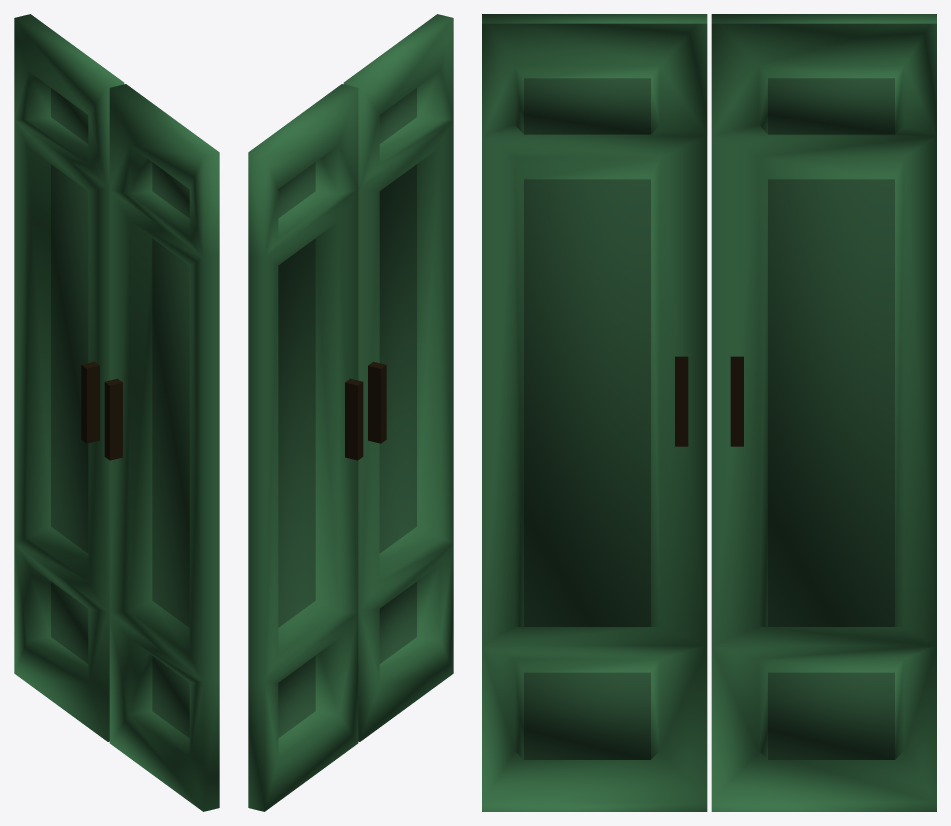
Rendered from Door_Double.fbx.
3 views of the same model, side by side, from view 1: azimuth 30°, elevation 25°; view 2: azimuth 150°, elevation 25°; view 3: azimuth 270°, elevation 25° (orthographic). The views are drawn at different scales.
Parts seen in each view (by area): view 1: Door_Double; view 2: Door_Double; view 3: Door_Double.
Part boxes in pixels (x1,y1,x2,y2): Door_Double: (14, 14, 219, 811); Door_Double: (248, 14, 453, 811); Door_Double: (482, 14, 936, 811).
Bounding box in the file's own units: 0.1294 × 1.31 × 2.51.
